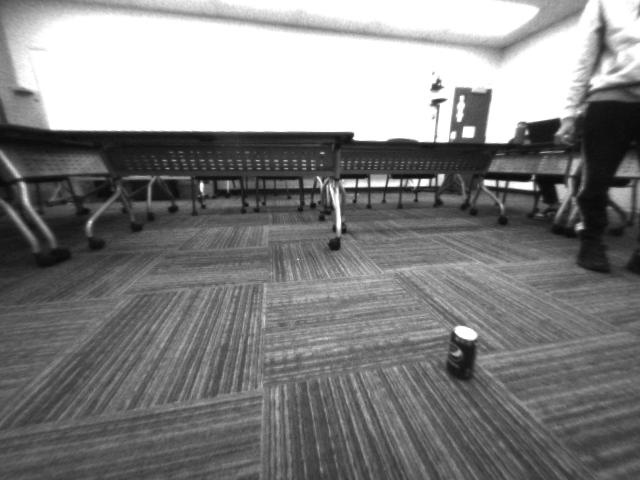can: (443, 317, 485, 387)
